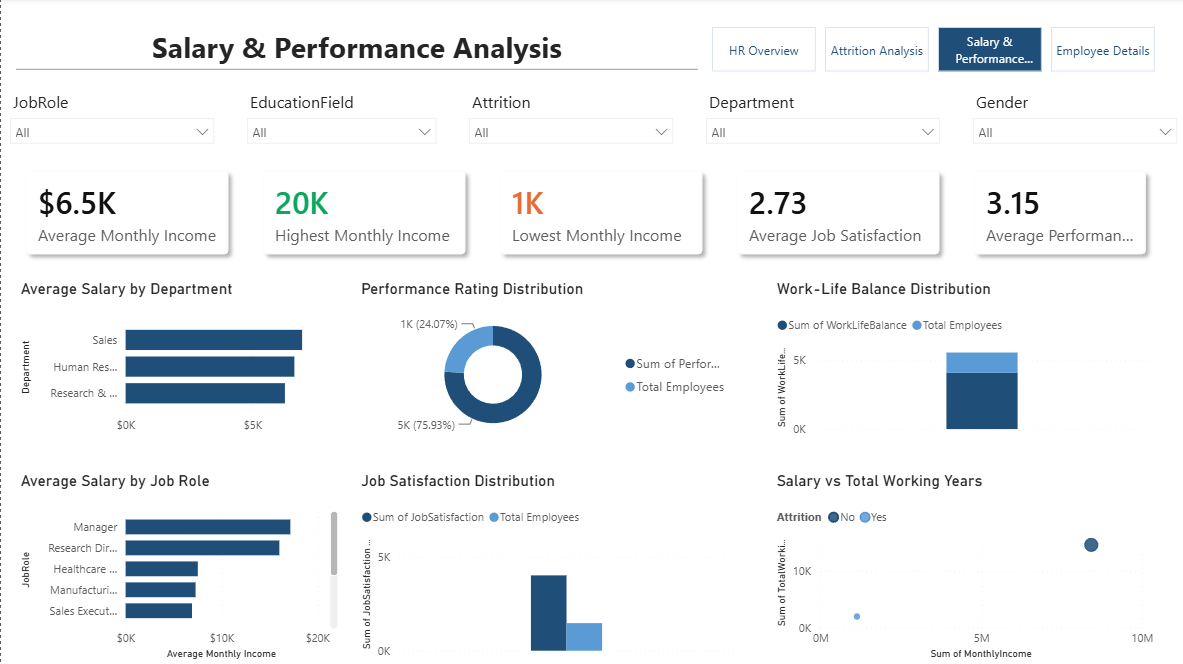

This screenshot's page, from the dashboard's own definition file:
{"tool":"powerbi","page":{"name":"Salary & Performance Analysis","canvas":[1280,720],"ordinal":2},"visuals":[{"type":"textbox","title":"Salary & Performance Analysis","box":[16,32,736,64],"z":0},{"type":"slicer","fields":{"Values":["Employee.JobRole"]},"box":[0,96,240,80],"z":1},{"type":"slicer","fields":{"Values":["Employee.EducationField"]},"box":[256,96,224,80],"z":2},{"type":"slicer","fields":{"Values":["Employee.Attrition"]},"box":[496,96,240,80],"z":3},{"type":"slicer","fields":{"Values":["Employee.Department"]},"box":[752,96,272,80],"z":4},{"type":"slicer","fields":{"Values":["Employee.Gender"]},"box":[1040,96,240,80],"z":5},{"type":"cardVisual","fields":{"Data":["_Measures.Average Monthly Income"]},"box":[0,160,272,144],"z":6},{"type":"cardVisual","fields":{"Data":["_Measures.Highest Monthly Income"]},"box":[256,160,272,144],"z":7},{"type":"cardVisual","fields":{"Data":["_Measures.Lowest Monthly Income"]},"box":[512,160,272,144],"z":8},{"type":"cardVisual","fields":{"Data":["_Measures.Average Performance Rating"]},"box":[1024,160,240,144],"z":9},{"type":"cardVisual","fields":{"Data":["_Measures.Average Job Satisfaction"]},"box":[768,160,272,144],"z":10},{"type":"clusteredBarChart","title":"Average Salary by Department","fields":{"Category":["Dim Department.Department"],"Y":["_Measures.Average Monthly Income"]},"box":[16,304,352,176],"z":11},{"type":"clusteredBarChart","title":"Average Salary by Job Role","fields":{"Category":["Dim Job Role.JobRole"],"Y":["_Measures.Average Monthly Income"]},"box":[16,512,352,208],"z":12},{"type":"donutChart","title":"Performance Rating Distribution","fields":{"Y":["Sum(Employee.PerformanceRating)","_Measures.Total Employees"]},"box":[384,304,416,176],"z":13},{"type":"clusteredColumnChart","title":"Job Satisfaction Distribution","fields":{"Y":["Sum(Employee.JobSatisfaction)","_Measures.Total Employees"]},"box":[384,512,416,208],"z":14},{"type":"columnChart","title":"Work-Life Balance Distribution","fields":{"Y":["Sum(Employee.WorkLifeBalance)","_Measures.Total Employees"]},"box":[832,304,416,176],"z":15},{"type":"scatterChart","title":"Salary vs Total Working Years","fields":{"Series":["Employee.Attrition"],"Size":["Sum(Employee.MonthlyIncome)"],"X":["Sum(Employee.MonthlyIncome)"],"Y":["Sum(Employee.TotalWorkingYears)"]},"box":[832,512,416,208],"z":16},{"type":"pageNavigator","box":[768,32,480,48],"z":17}]}

Visuals, with their boxes in screenshot pixels (x1, y1, x2, y2), scaled from the page's 1280x720 canvas onto the 1183x664 screenshot:
"Salary & Performance Analysis" textbox: box=[15, 30, 695, 89]
slicer - Employee.JobRole: box=[0, 89, 222, 162]
slicer - Employee.EducationField: box=[237, 89, 444, 162]
slicer - Employee.Attrition: box=[458, 89, 680, 162]
slicer - Employee.Department: box=[695, 89, 946, 162]
slicer - Employee.Gender: box=[961, 89, 1182, 162]
cardVisual - _Measures.Average Monthly Income: box=[0, 148, 251, 280]
cardVisual - _Measures.Highest Monthly Income: box=[237, 148, 488, 280]
cardVisual - _Measures.Lowest Monthly Income: box=[473, 148, 725, 280]
cardVisual - _Measures.Average Performance Rating: box=[946, 148, 1168, 280]
cardVisual - _Measures.Average Job Satisfaction: box=[710, 148, 961, 280]
"Average Salary by Department" clusteredBarChart: box=[15, 280, 340, 443]
"Average Salary by Job Role" clusteredBarChart: box=[15, 472, 340, 663]
"Performance Rating Distribution" donutChart: box=[355, 280, 739, 443]
"Job Satisfaction Distribution" clusteredColumnChart: box=[355, 472, 739, 663]
"Work-Life Balance Distribution" columnChart: box=[769, 280, 1153, 443]
"Salary vs Total Working Years" scatterChart: box=[769, 472, 1153, 663]
pageNavigator: box=[710, 30, 1153, 74]
